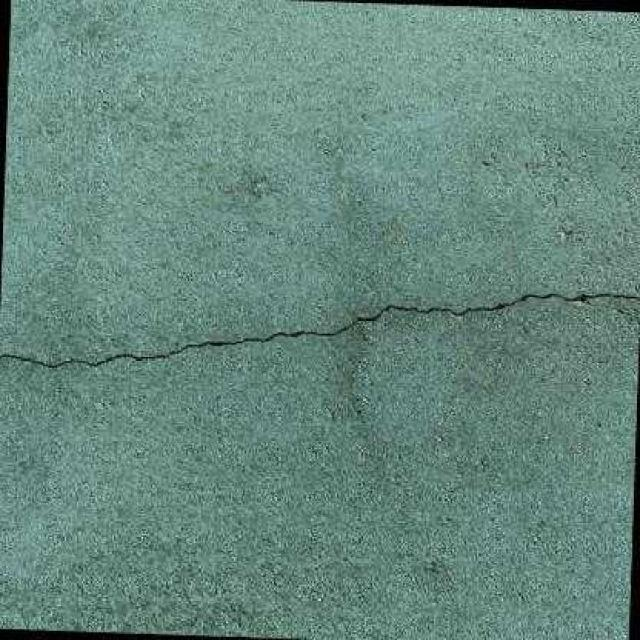D00: (0, 292, 640, 366)
